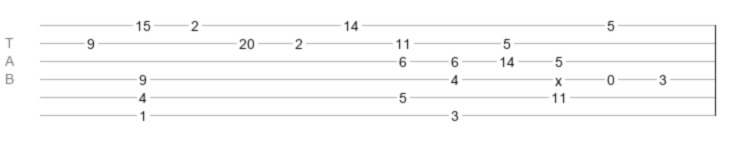0: (607, 72, 615, 82)
1: (139, 108, 147, 118)
11: (395, 36, 411, 46), (551, 90, 567, 100)
14: (343, 18, 359, 28), (499, 54, 515, 64)
15: (135, 18, 151, 28)
2: (191, 18, 199, 28), (295, 36, 303, 46)
20: (239, 36, 255, 46)
3: (451, 108, 459, 118), (659, 72, 667, 82)
4: (139, 90, 147, 100), (451, 72, 459, 82)
5: (399, 90, 407, 100), (503, 36, 511, 46), (555, 54, 563, 64), (607, 18, 615, 28)
6: (399, 54, 407, 64), (451, 54, 459, 64)
9: (87, 36, 95, 46), (139, 72, 147, 82)
x: (555, 73, 562, 81)
